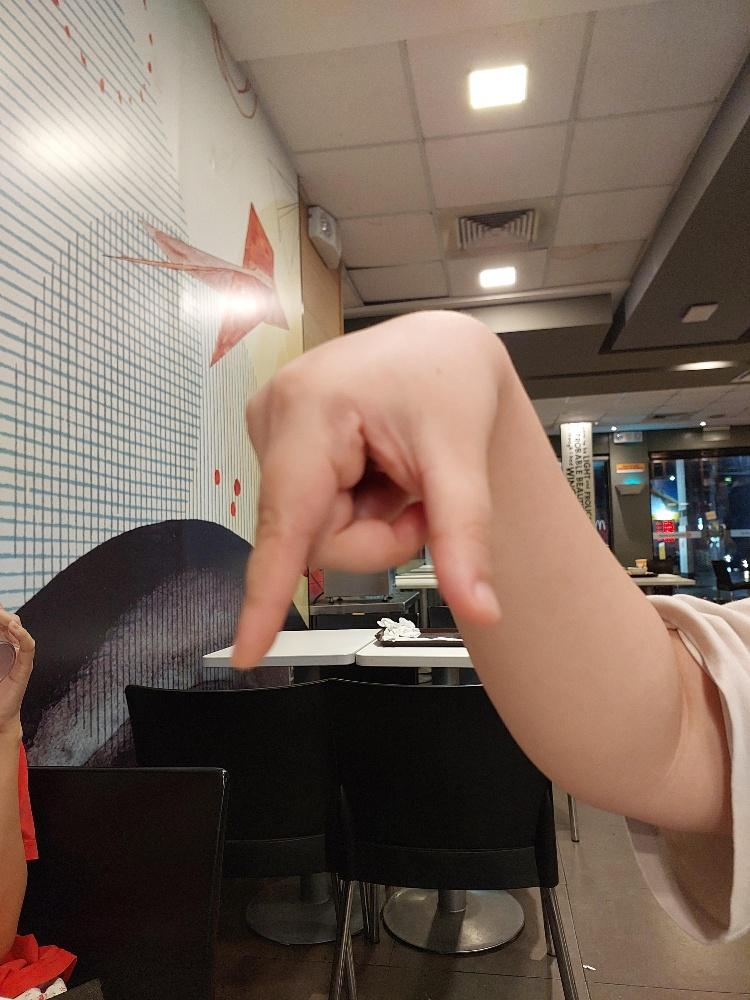q: (224, 305, 505, 675)
